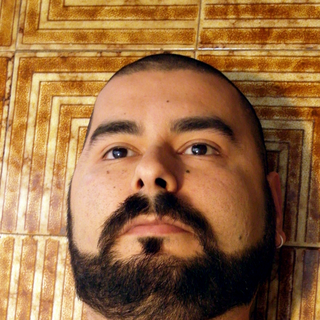eye: (176, 138, 224, 163), (96, 140, 139, 165)
